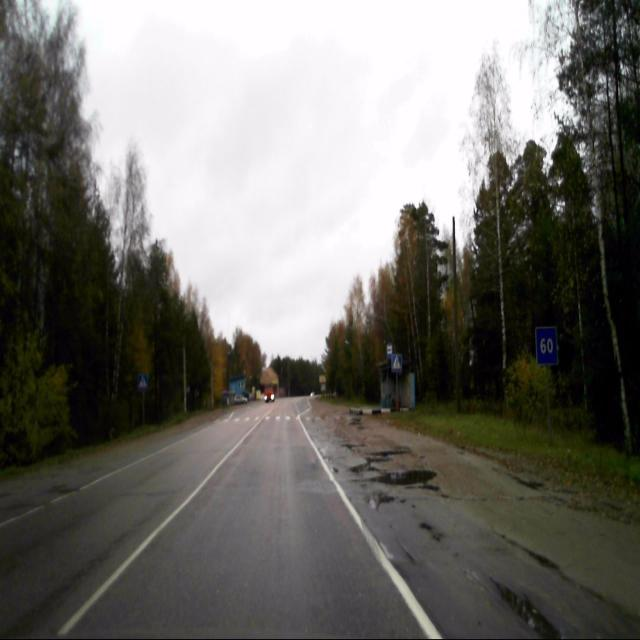road sign: (536, 327, 558, 367), (390, 352, 402, 372), (138, 375, 148, 391)
